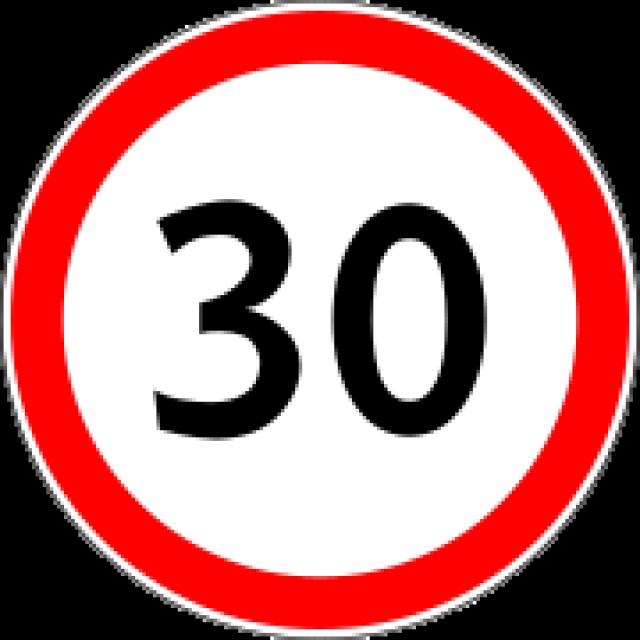Speed Limit -30-: (123, 176, 513, 455)
